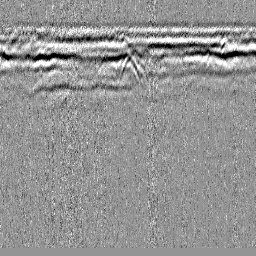cavity: (117, 52, 142, 86)
